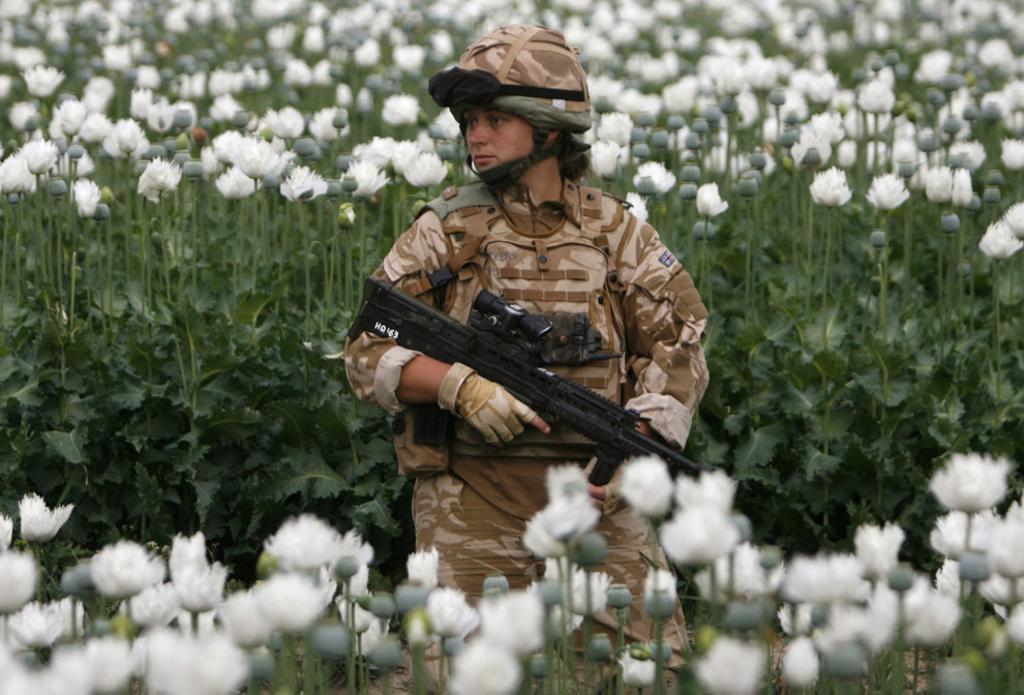face: (463, 85, 539, 185)
